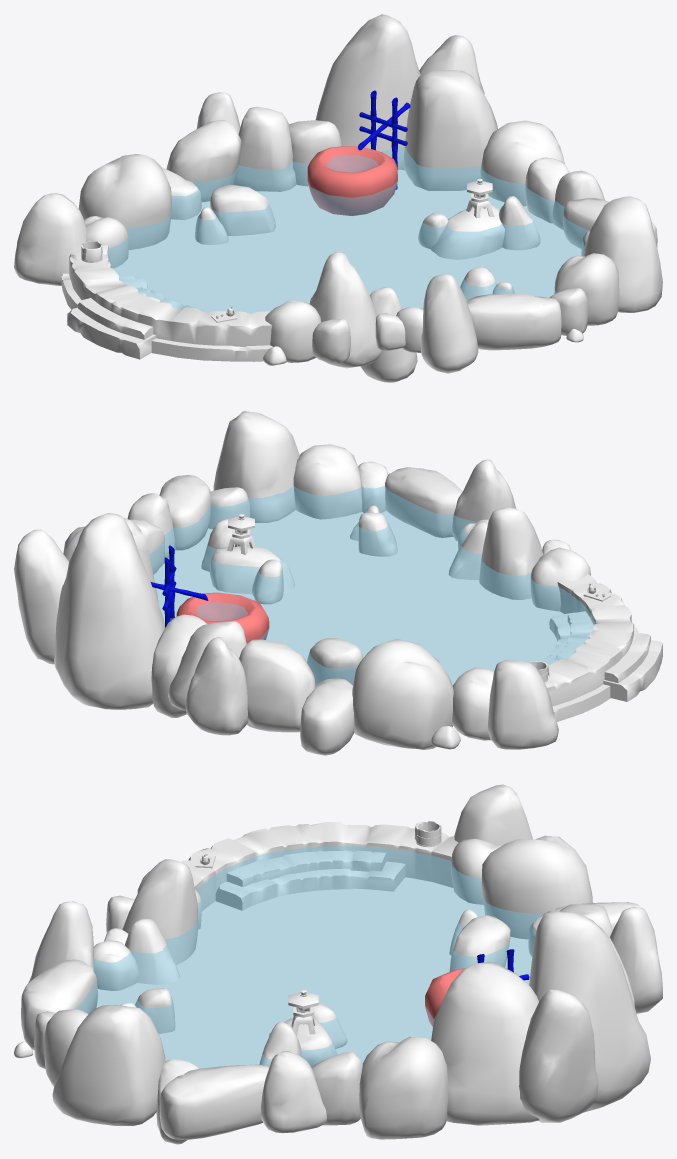
File: Whitestone Hot Spring_ Diffusing Warmth.fbx
3 renders of one model, top to bottom at view 1: azimuth 30°, elevation 25°; view 2: azimuth 150°, elevation 25°; view 3: azimuth 270°, elevation 25°, orthographic. The views are drawn at different scales.
Visible parts, largest first — view 1: Whitestone Hot Spring: Diffusing Warmth; view 2: Whitestone Hot Spring: Diffusing Warmth; view 3: Whitestone Hot Spring: Diffusing Warmth.
Part boxes in pixels (x1,y1,x2,y2): Whitestone Hot Spring: Diffusing Warmth: (14,14,662,382); Whitestone Hot Spring: Diffusing Warmth: (14,411,662,755); Whitestone Hot Spring: Diffusing Warmth: (14,784,662,1144).
Bounding box in the file's own units: 21.27 × 7.31 × 19.79.
